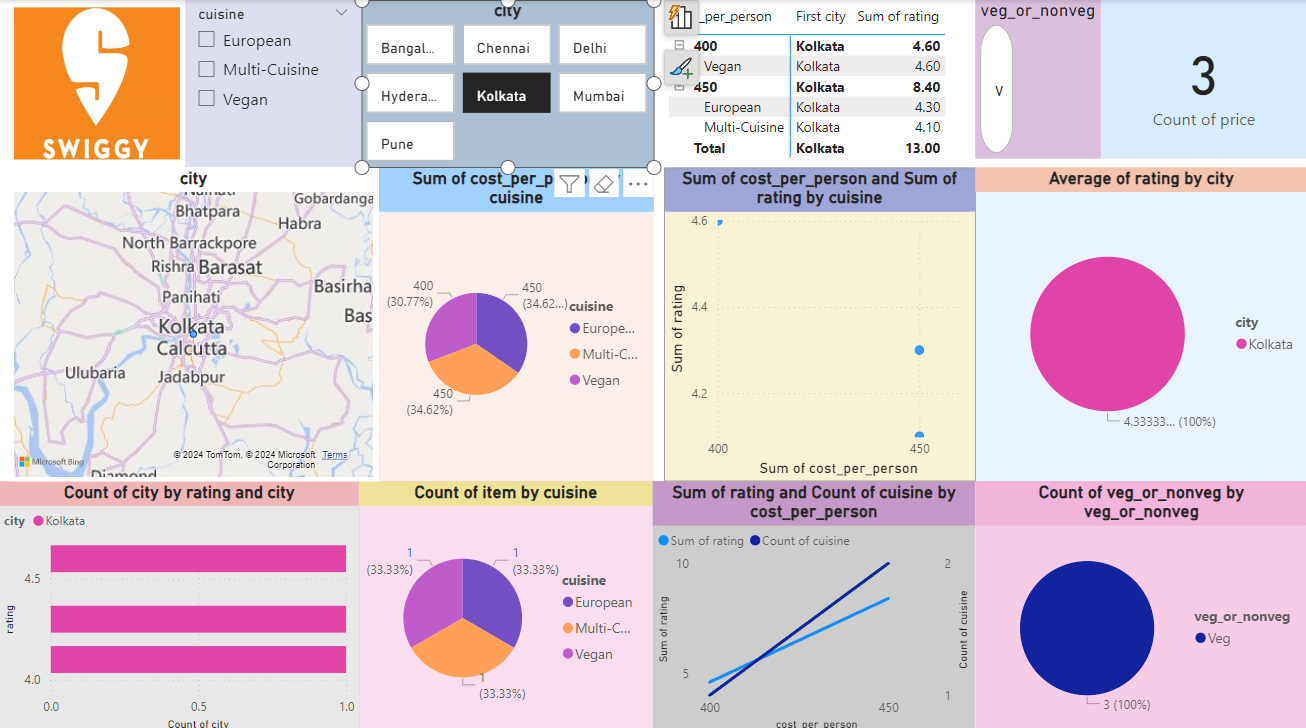

Layout of this report page (visuals, bound fields, positions):
{"tool":"powerbi","page":{"name":"Page 1","canvas":[1280,720],"ordinal":0},"visuals":[{"type":"image","box":[10,0,172.1,163.6],"z":0},{"type":"barChart","fields":{"Category":["22  Swiggy_csv.rating"],"Y":["CountNonNull(22  Swiggy_csv.city)"],"Series":["22  Swiggy_csv.city"]},"box":[0,470.8,352.7,248.9],"z":1},{"type":"pieChart","fields":{"Category":["22  Swiggy_csv.cuisine"],"Y":["CountNonNull(22  Swiggy_csv.item)"]},"box":[352.7,470.8,287.3,248.9],"z":2},{"type":"map","fields":{"Category":["22  Swiggy_csv.city","22  Swiggy_csv.rating","22  Swiggy_csv.cost_per_person"]},"box":[10,163.6,361.2,307.2],"z":3},{"type":"pieChart","fields":{"Category":["22  Swiggy_csv.cuisine"],"Y":["Sum(22  Swiggy_csv.cost_per_person)"]},"box":[371.2,163.6,268.8,307.2],"z":4},{"type":"slicer","fields":{"Values":["22  Swiggy_csv.cuisine"]},"box":[182,0,172.1,163.6],"z":5},{"type":"advancedSlicerVisual","fields":{"Values":["22  Swiggy_csv.city"]},"box":[354.6,0,286.1,163.9],"z":6},{"type":"pivotTable","fields":{"Rows":["22  Swiggy_csv.cost_per_person","22  Swiggy_csv.cuisine"],"Values":["Min(22  Swiggy_csv.city)","Sum(22  Swiggy_csv.rating)"]},"box":[650.5,0,315.5,163.9],"z":7},{"type":"lineChart","fields":{"Y":["Sum(22  Swiggy_csv.rating)"],"Category":["22  Swiggy_csv.cost_per_person"],"Y2":["CountNonNull(22  Swiggy_csv.cuisine)"]},"box":[639.5,470.8,315.5,249.5],"z":8},{"type":"scatterChart","fields":{"X":["Sum(22  Swiggy_csv.cost_per_person)"],"Y":["Sum(22  Swiggy_csv.rating)"],"Category":["22  Swiggy_csv.cuisine"]},"box":[650.5,163.9,304.5,306.9],"z":9},{"type":"pieChart","fields":{"Y":["Avg(22  Swiggy_csv.rating)"],"Category":["22  Swiggy_csv.city"]},"box":[955,163.9,325.3,306.9],"z":10},{"type":"advancedSlicerVisual","fields":{"Values":["22  Swiggy_csv.veg_or_nonveg"]},"box":[955,0,123.5,155.3],"z":11},{"type":"pieChart","fields":{"Category":["22  Swiggy_csv.veg_or_nonveg"],"Y":["CountNonNull(22  Swiggy_csv.veg_or_nonveg)"]},"box":[955,470.8,325.3,249.5],"z":12},{"type":"card","fields":{"Values":["Count(22  Swiggy_csv.price)"]},"box":[1079,0,201,155],"z":13}]}

Visuals, with their boxes in screenshot pixels (x1, y1, x2, y2), scaled from the page's 1280x720 canvas onto the 1306x728 screenshot:
image: 10,0,186,165
barChart - 22  Swiggy_csv.rating x CountNonNull(22  Swiggy_csv.city): 0,476,360,727
pieChart - 22  Swiggy_csv.cuisine x CountNonNull(22  Swiggy_csv.item): 360,476,653,727
map - 22  Swiggy_csv.city x 22  Swiggy_csv.rating: 10,165,379,476
pieChart - 22  Swiggy_csv.cuisine x Sum(22  Swiggy_csv.cost_per_person): 379,165,653,476
slicer - 22  Swiggy_csv.cuisine: 186,0,361,165
advancedSlicerVisual - 22  Swiggy_csv.city: 362,0,654,166
pivotTable - 22  Swiggy_csv.cost_per_person x 22  Swiggy_csv.cuisine: 664,0,986,166
lineChart - Sum(22  Swiggy_csv.rating) x 22  Swiggy_csv.cost_per_person: 652,476,974,727
scatterChart - Sum(22  Swiggy_csv.cost_per_person) x Sum(22  Swiggy_csv.rating): 664,166,974,476
pieChart - Avg(22  Swiggy_csv.rating) x 22  Swiggy_csv.city: 974,166,1305,476
advancedSlicerVisual - 22  Swiggy_csv.veg_or_nonveg: 974,0,1100,157
pieChart - 22  Swiggy_csv.veg_or_nonveg x CountNonNull(22  Swiggy_csv.veg_or_nonveg): 974,476,1305,727
card - Count(22  Swiggy_csv.price): 1101,0,1305,157
